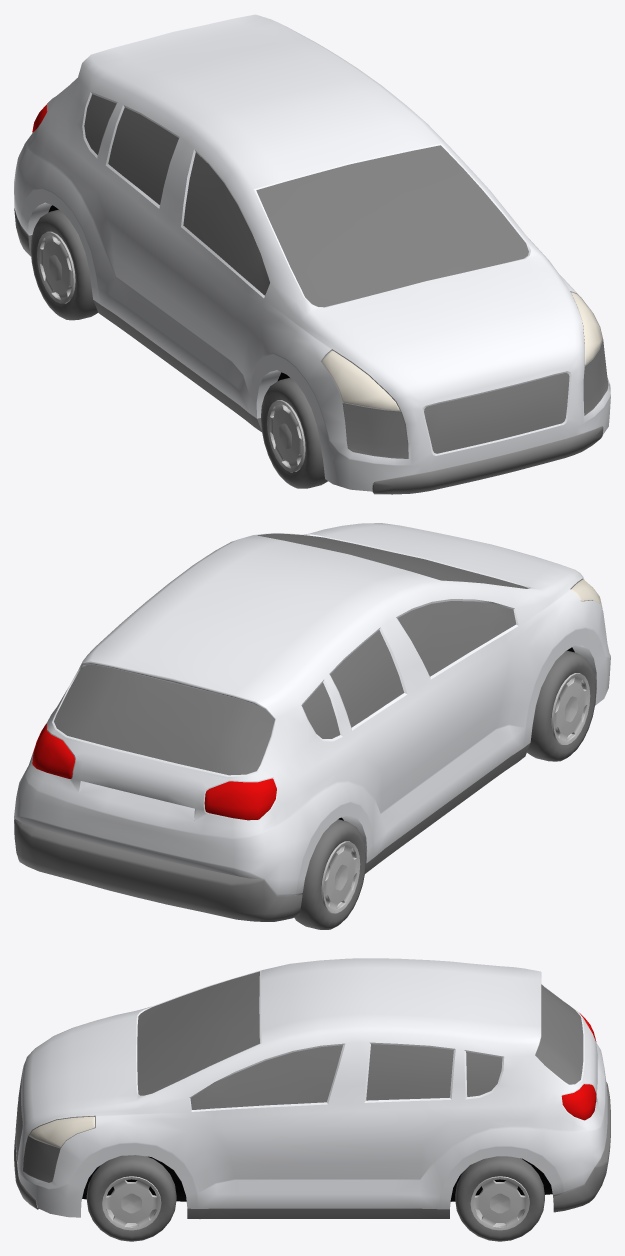
The model's file is MobilKeluarga.fbx.
The picture shows the model from 3 angles, top to bottom: view 1: azimuth 30°, elevation 25°; view 2: azimuth 150°, elevation 25°; view 3: azimuth 270°, elevation 25°; orthographic projection. The views are drawn at different scales.
Visible parts, largest first — view 1: FamilyCar.001; view 2: FamilyCar.001; view 3: FamilyCar.001.
Boxes of the visible parts, x1,y1,x2,y2 form: FamilyCar.001: (14, 14, 610, 494); FamilyCar.001: (14, 523, 610, 929); FamilyCar.001: (14, 958, 610, 1241).
Bounding box in the file's own units: 470 × 386 × 1053.
